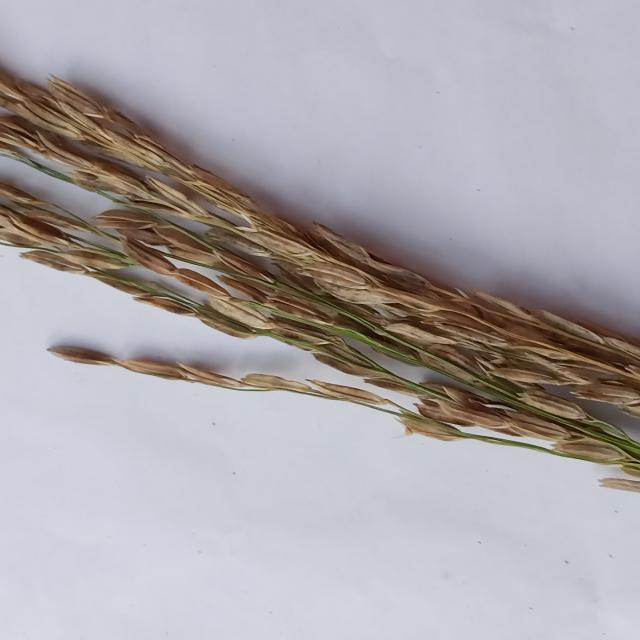Neck_Blast: (0, 52, 640, 411), (0, 183, 407, 390), (47, 343, 640, 485)
